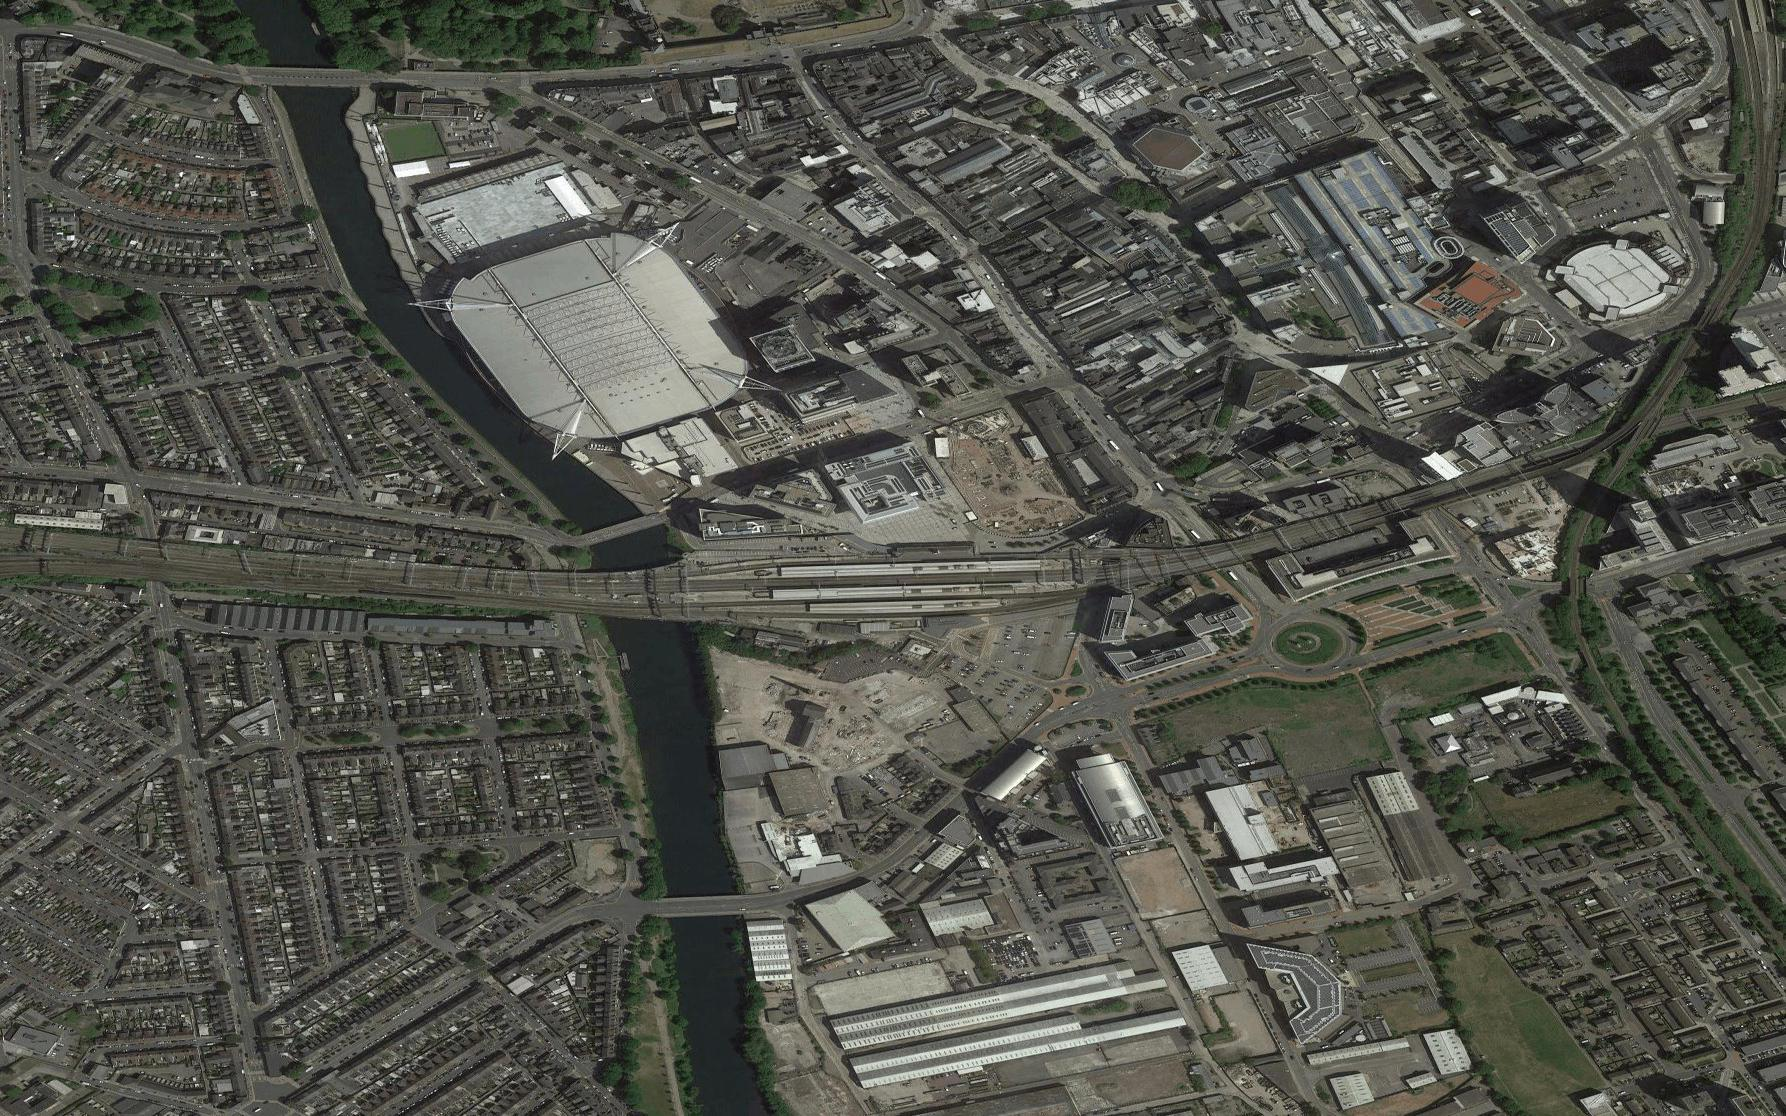bridge: (639, 883, 759, 926), (584, 501, 667, 555), (266, 50, 363, 95)
industrial: (809, 834, 1258, 1108)
train_station: (670, 477, 1105, 666)
